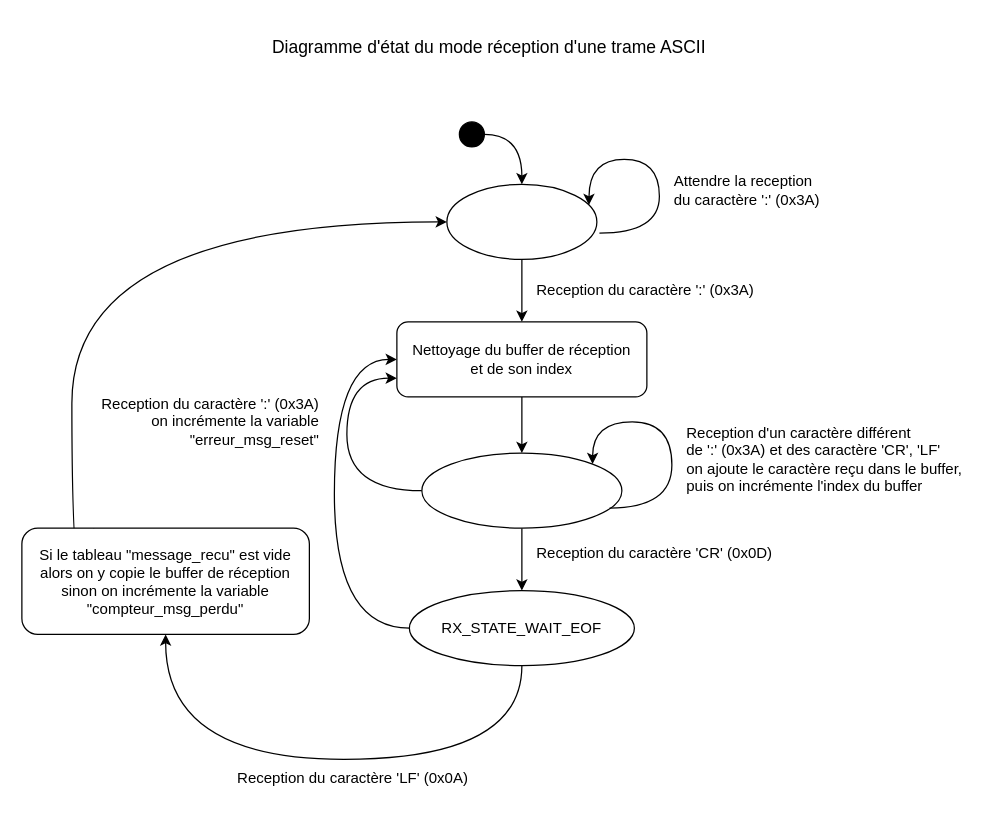
This 1006x818 diagram has some shape labels left out. The shapes that lost their labels are listed below. From the top down, each one's box as (x1, y1, x2, y2) in pixels, then its label:
(446, 183, 597, 259): RX_STATE_IDLE
(421, 452, 622, 528): RX_STATE_RECEIVED
